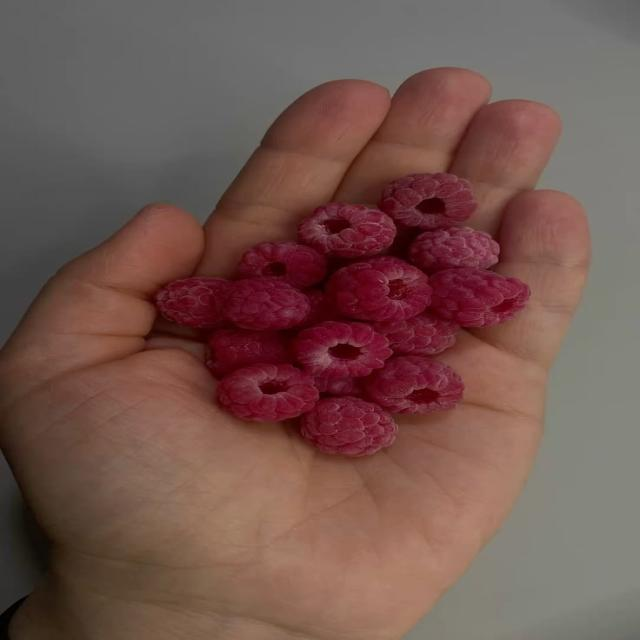raspberry: (326, 257, 431, 320), (430, 269, 530, 327), (364, 356, 464, 413), (301, 397, 397, 456), (218, 365, 319, 421), (294, 321, 392, 376), (380, 174, 476, 228), (300, 203, 395, 257), (225, 278, 309, 330), (207, 328, 292, 377), (238, 242, 326, 288), (409, 227, 499, 271), (155, 278, 232, 328), (374, 312, 459, 355), (301, 289, 343, 326), (315, 376, 363, 397)
